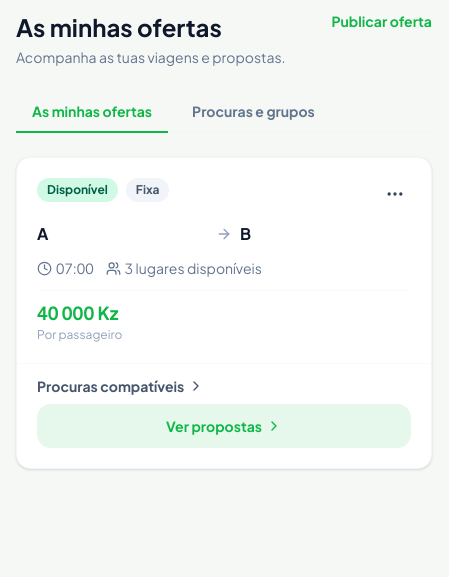
Test: PACOTE ENG #29 — motorista procuras hub › ENG29-4: proposta aberta pré-existente mostra «Proposta enviada»
Click the tab "Procuras e grupos".
click(254, 112)  # box [176,91,331,133]
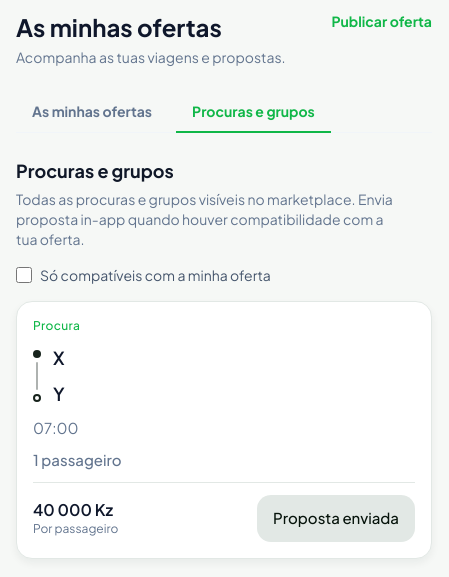
Result: the button "Proposta enviada" is disabled at [257,495,415,542]
